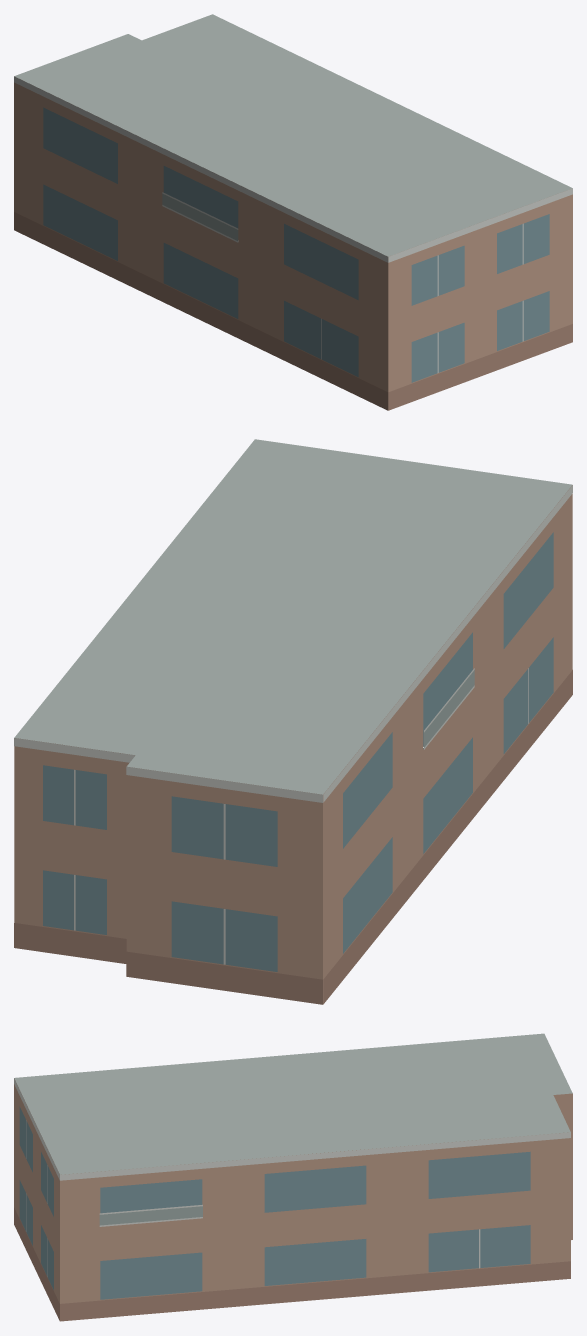
The model's file is survey-upis-32708920.glb.
3 renders of one model, top to bottom at view 1: azimuth 30°, elevation 25°; view 2: azimuth 150°, elevation 25°; view 3: azimuth 270°, elevation 25°, orthographic. The views are drawn at different scales.
Parts seen in each view (by area): view 1: survey-upis-32708920.tmp; view 2: survey-upis-32708920.tmp; view 3: survey-upis-32708920.tmp.
Part boxes in pixels (left/top/right/bottom): survey-upis-32708920.tmp: left=14, top=14, right=572, bottom=410; survey-upis-32708920.tmp: left=14, top=439, right=572, bottom=1004; survey-upis-32708920.tmp: left=14, top=1033, right=572, bottom=1321.
Size of the model in its own units: 12.63 by 6.1 by 21.09.
